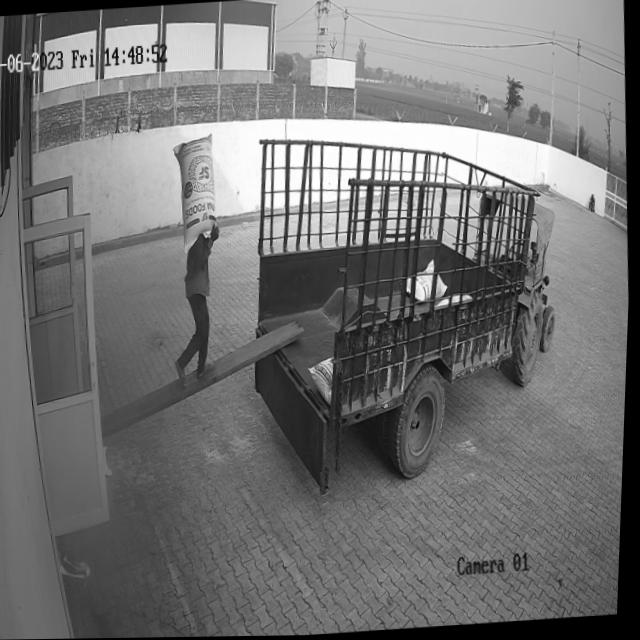sack: (171, 134, 222, 256)
